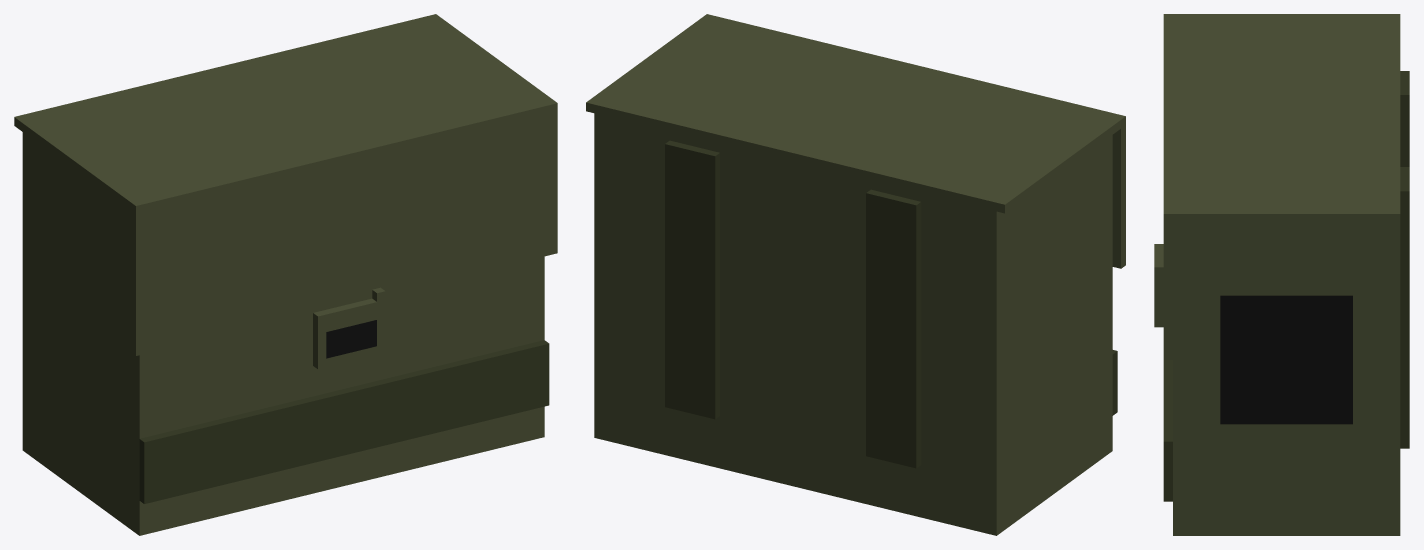
The model's file is cheap_ammo_pouch_belt308.glb.
The picture shows the model from 3 angles, left to right: view 1: azimuth 30°, elevation 25°; view 2: azimuth 150°, elevation 25°; view 3: azimuth 270°, elevation 25°; orthographic projection. The views are drawn at different scales.
Parts seen in each view (by area): view 1: cheap_ammo_pouch_belt308:compound; view 2: cheap_ammo_pouch_belt308:compound; view 3: cheap_ammo_pouch_belt308:compound.
Part boxes in pixels (box(x1,y1,x2,y2)): cheap_ammo_pouch_belt308:compound: box(14, 14, 557, 535); cheap_ammo_pouch_belt308:compound: box(586, 14, 1125, 535); cheap_ammo_pouch_belt308:compound: box(1154, 14, 1409, 535).
Bounding box in the file's own units: 0.2 × 0.152 × 0.108.
